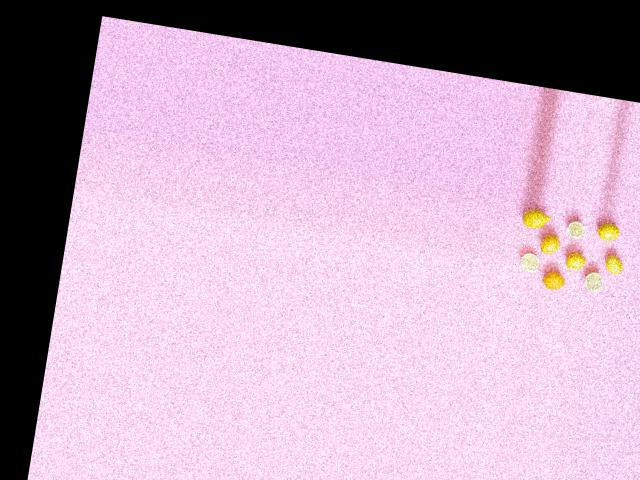lemon: (592, 217, 622, 240)
